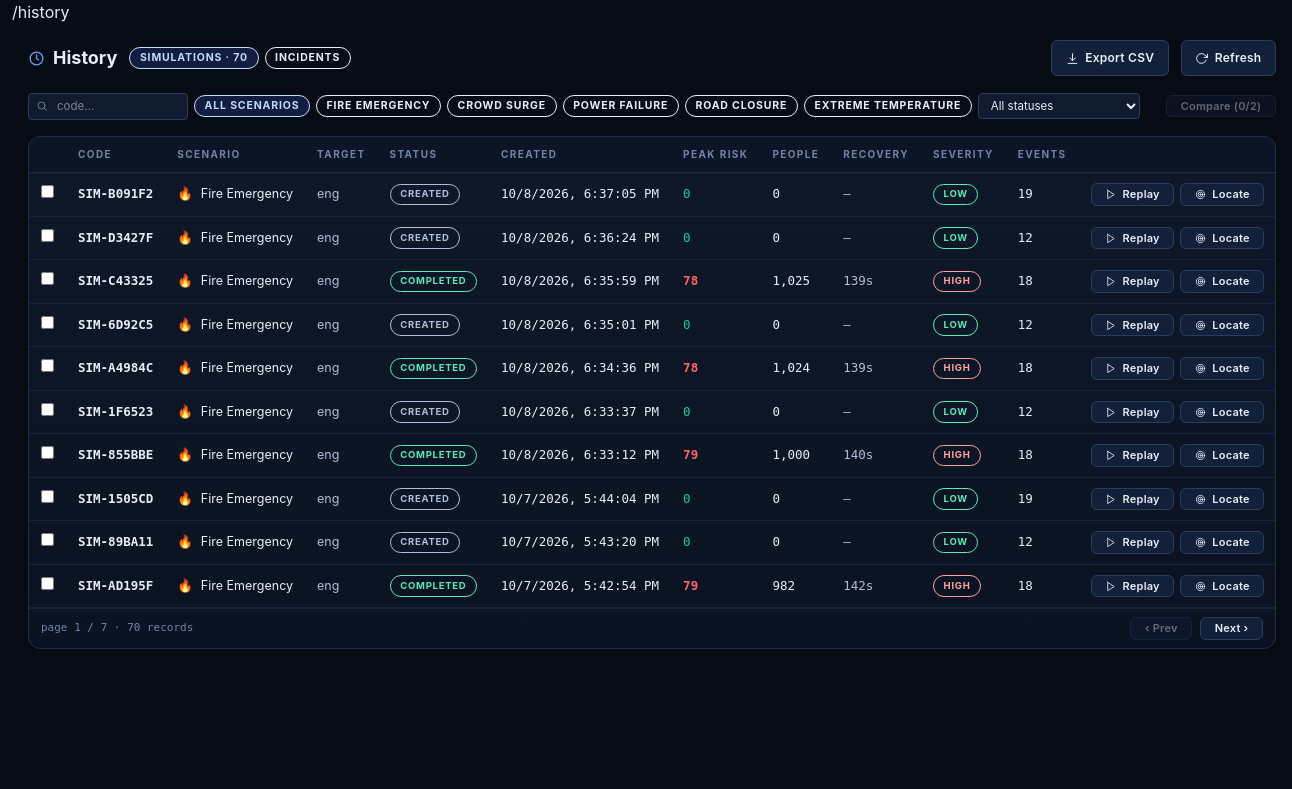
Test: History §62 — simulations tab › selects exactly two runs and fetches the comparison
Click the checkbox named "Compare select SIM-B091F2" at (48, 192), box top-left (41, 185), bottom-right (54, 198)
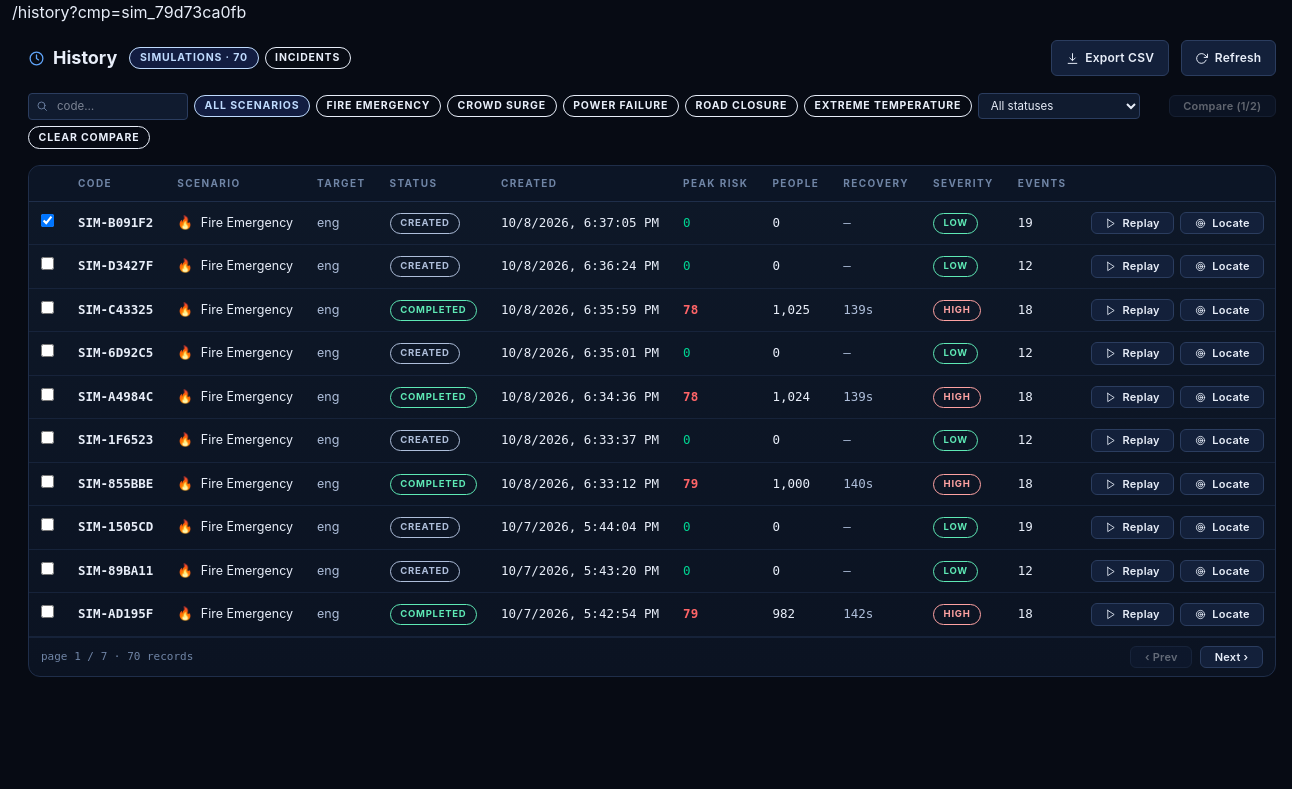
Click the checkbox named "Compare select SIM-D3427F" at (48, 264), box top-left (41, 257), bottom-right (54, 270)
(page scrolled)
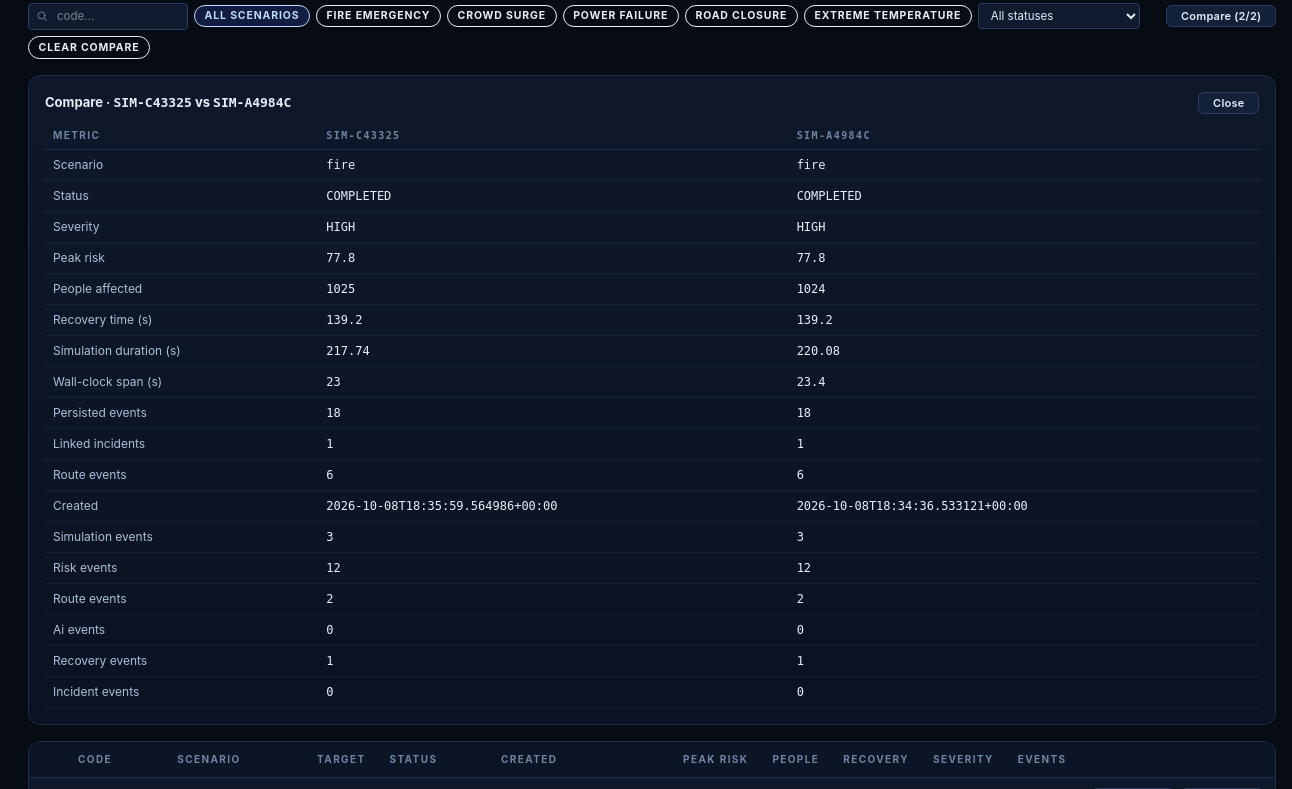
Expected: the element with test id "compare-panel" is shown
Expected: the element with test id "compare-panel" shows "SIM-C43325", top-left (114, 95), bottom-right (192, 110)
Expected: the element with test id "compare-panel" shows "SIM-A4984C", top-left (213, 95), bottom-right (291, 110)
